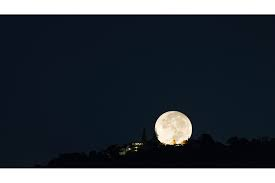moon: (155, 111, 193, 145)
